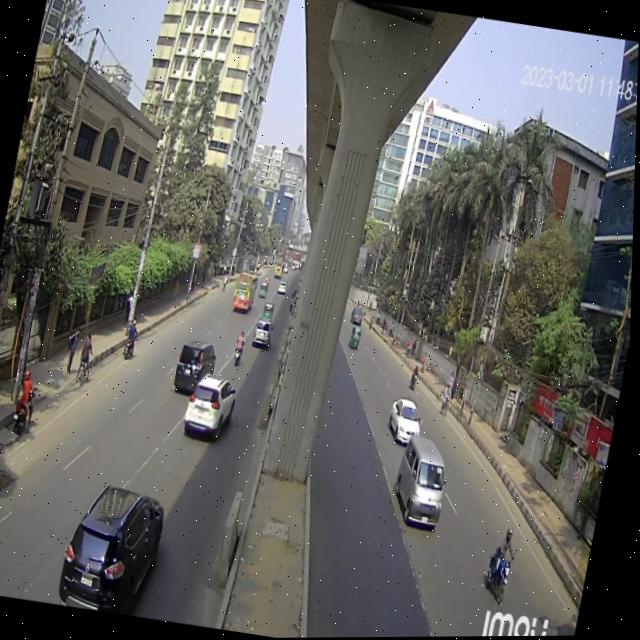cng: (261, 297, 281, 327), (348, 323, 366, 353)
